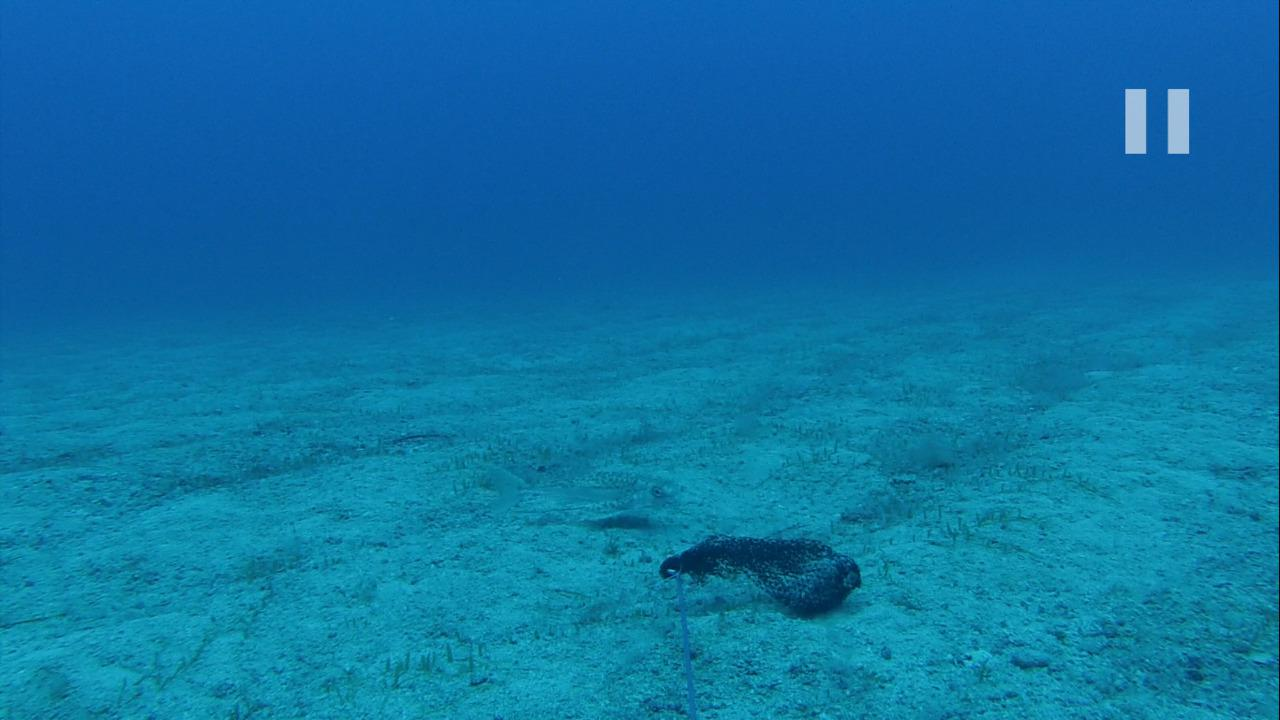dactylopterus: (452, 461, 687, 536)
